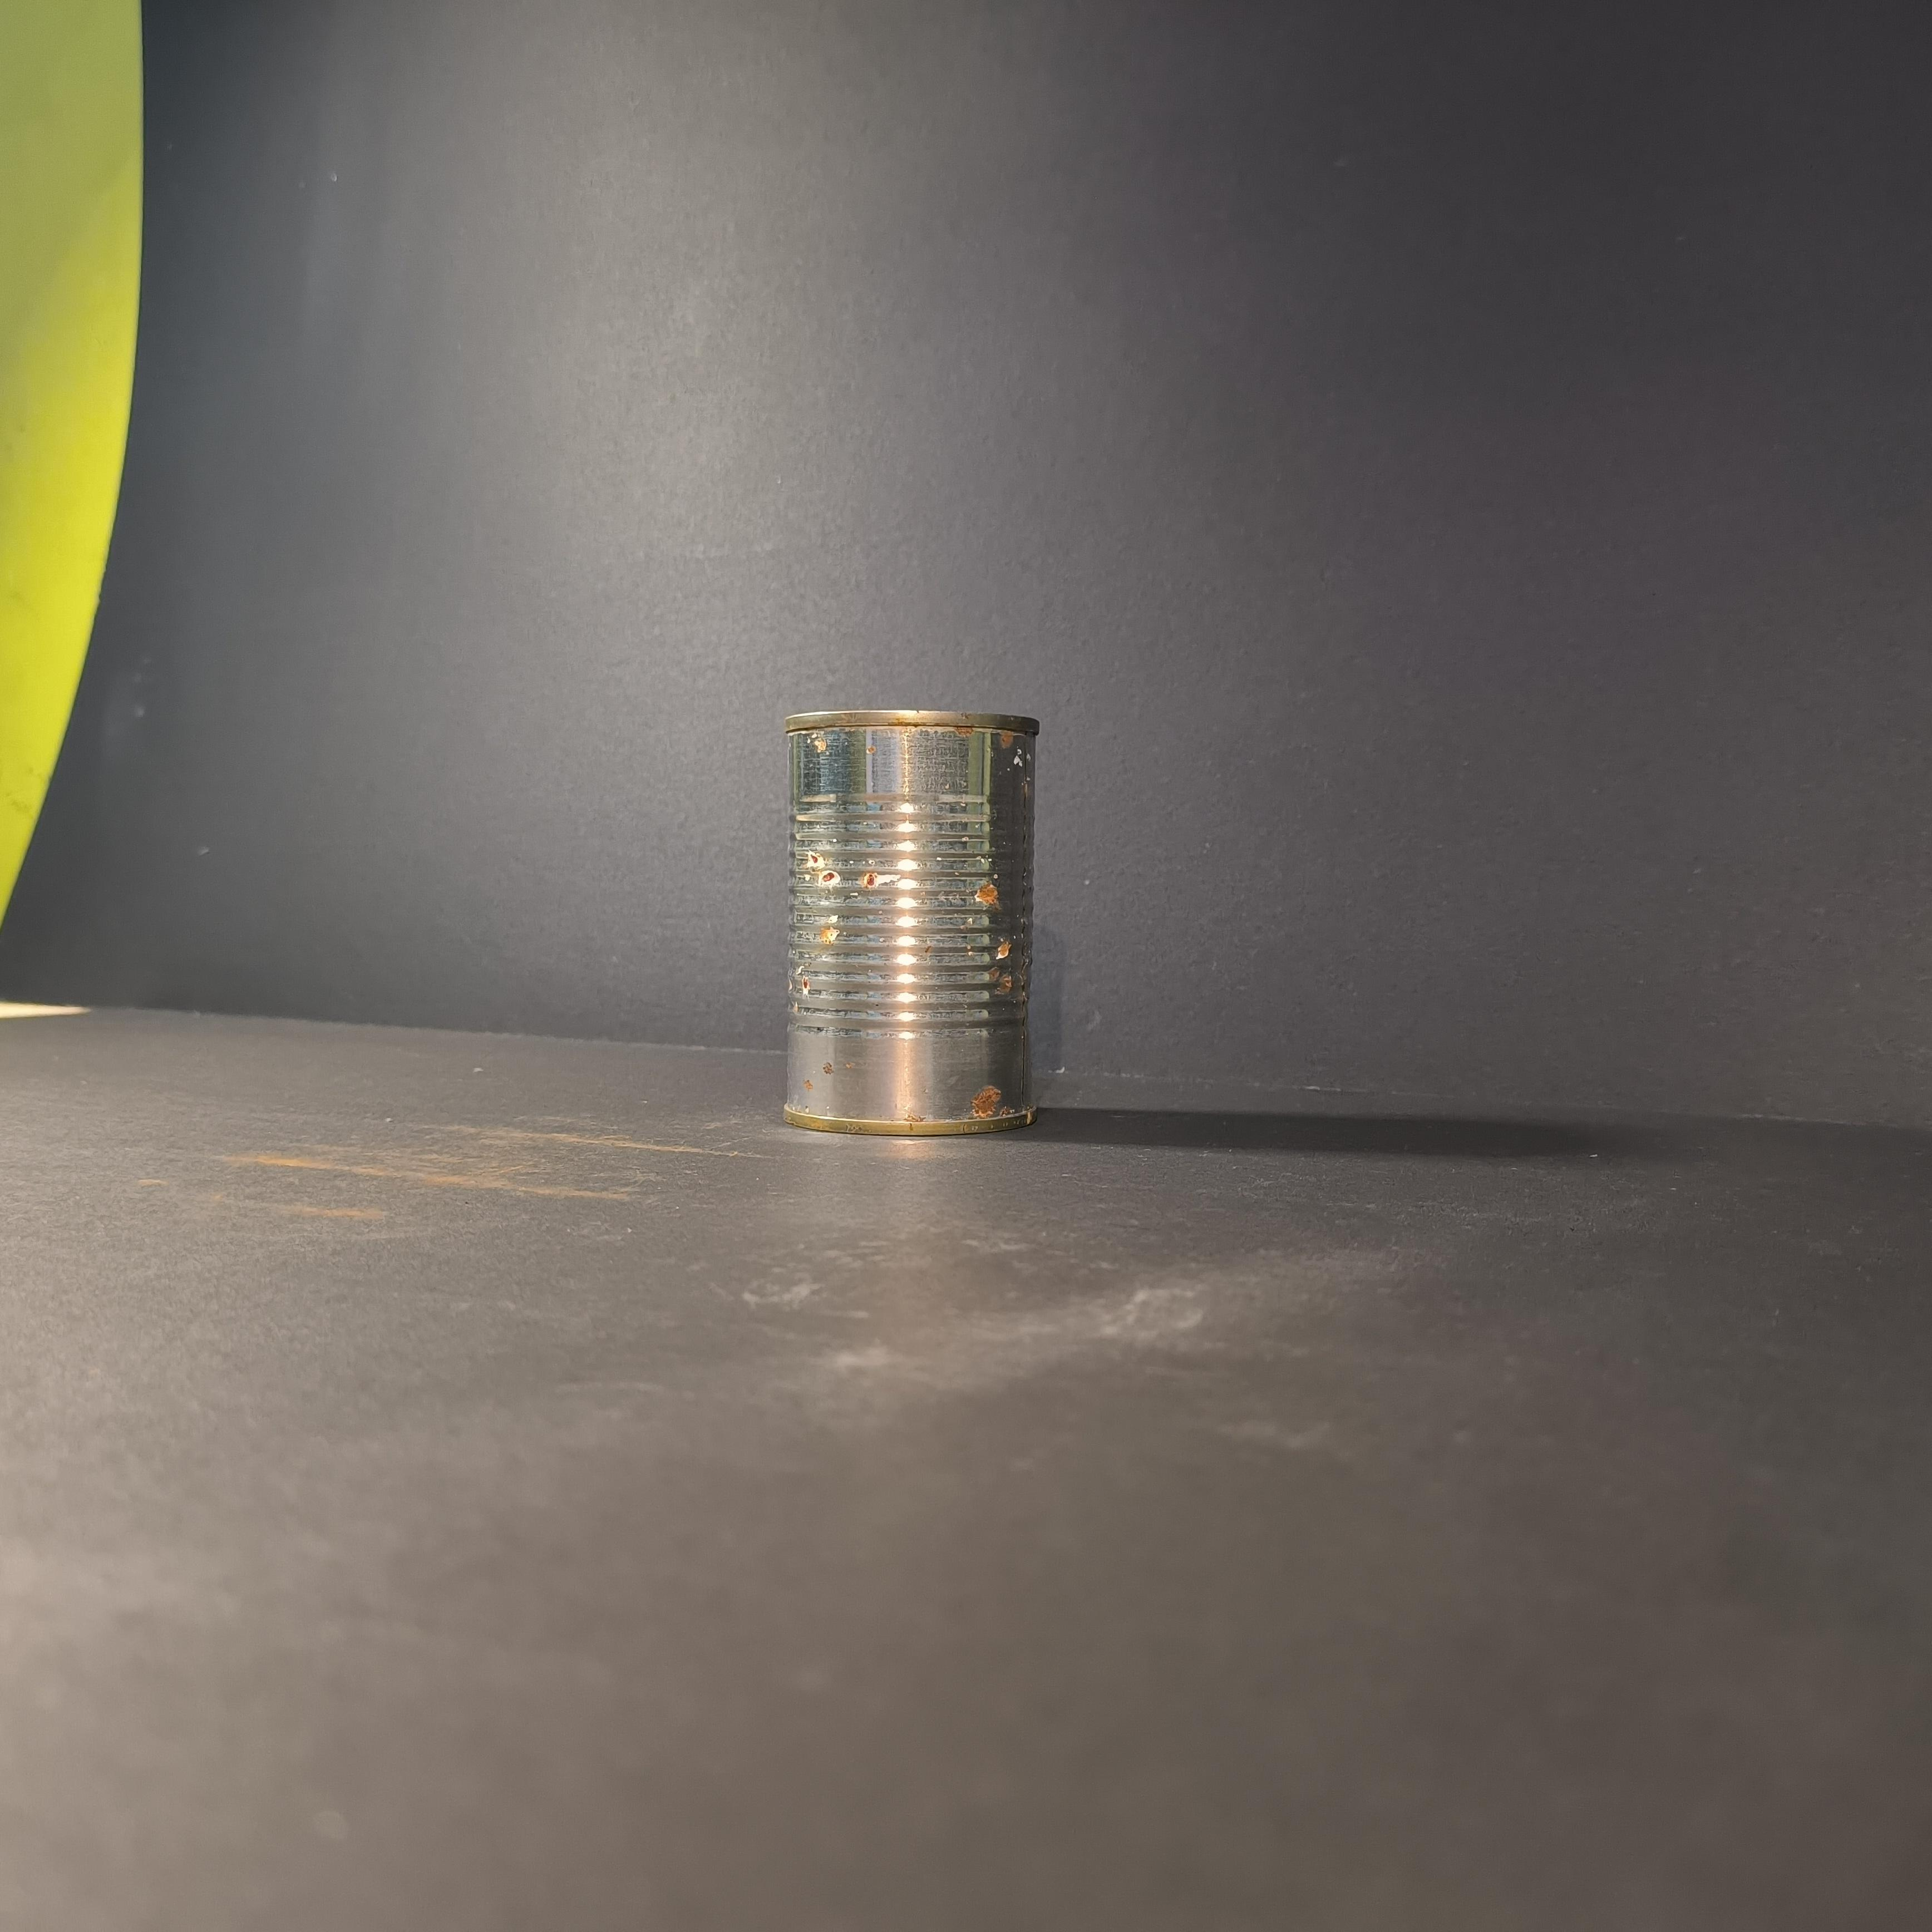Rusted: (777, 685, 1069, 1148)
